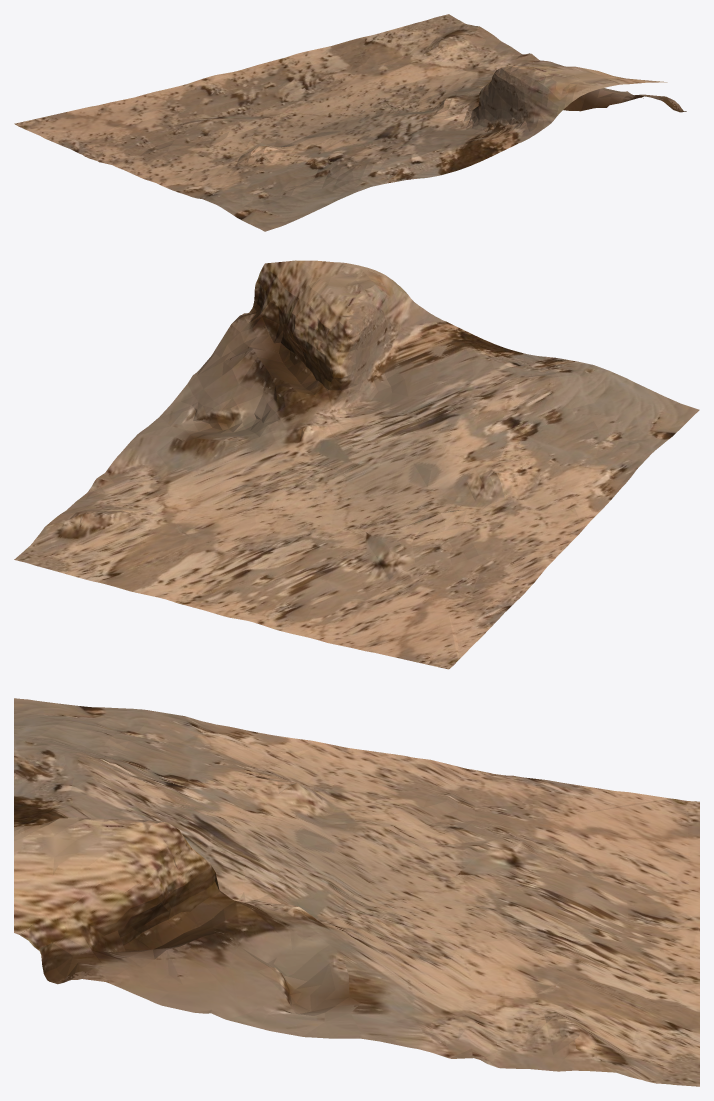
3 renders of one model, top to bottom at view 1: azimuth 30°, elevation 25°; view 2: azimuth 150°, elevation 25°; view 3: azimuth 270°, elevation 25°, orthographic. The views are drawn at different scales.
Bounding box in the file's own units: 2.09 × 0.6487 × 2.09.
2 materials, 2 textured.
